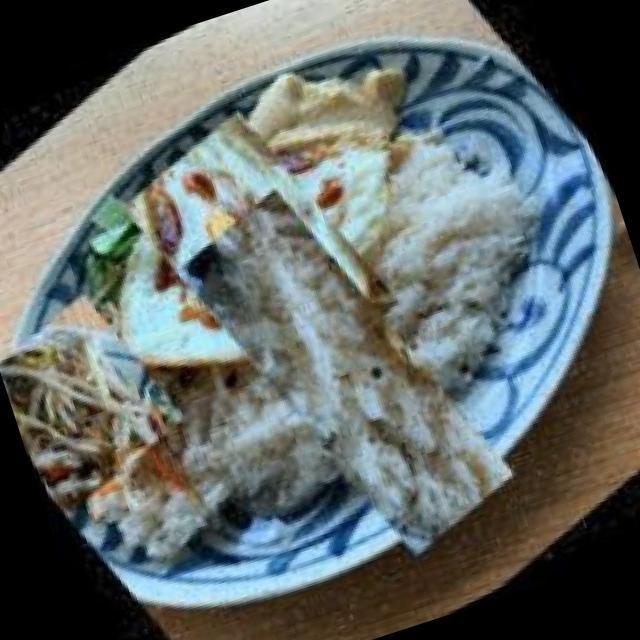fried_eggs: (89, 81, 438, 428)
mung_bean_sprouts: (0, 269, 208, 519)
rice: (130, 155, 563, 589)
